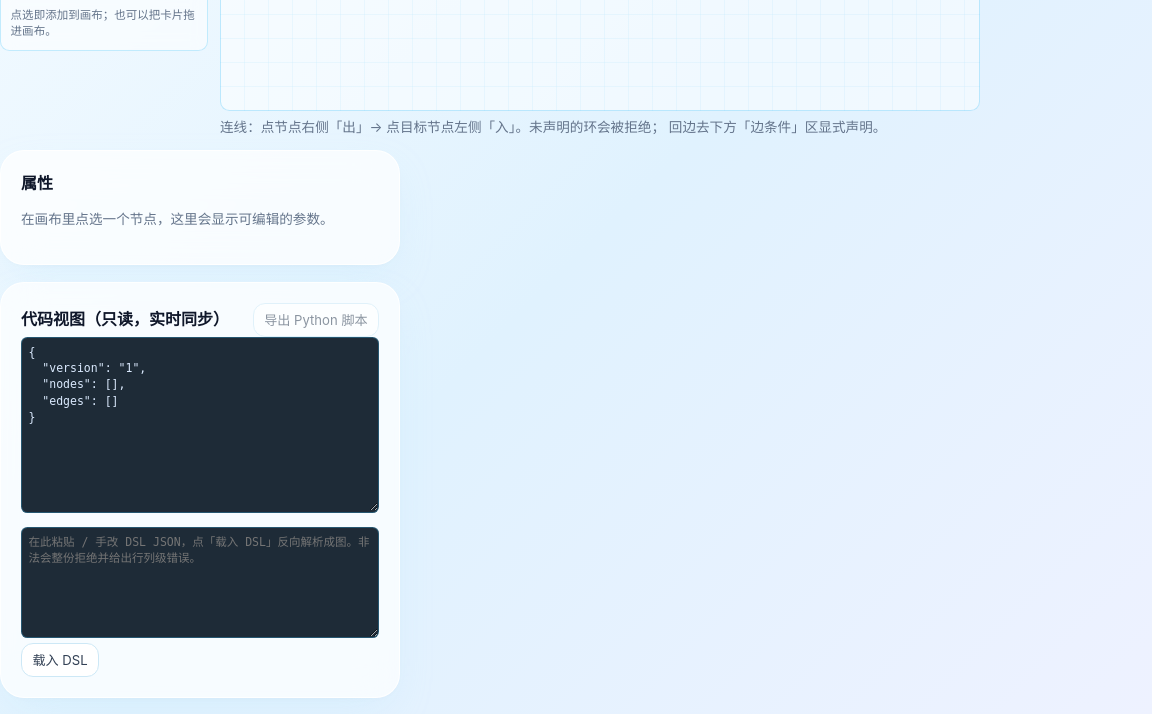
Test: FlowEditor · 载入非法 DSL 时错误条带定位信息（G4-g2） › validate-ir 也拿不到诊断时：只显示 message，不显示任何编造的位置
The width and height of the screenshot is (1152, 714).
(page scrolled)
Click the text box with test id "flow-dsl-input" at (200, 582), box [21,526,379,638]
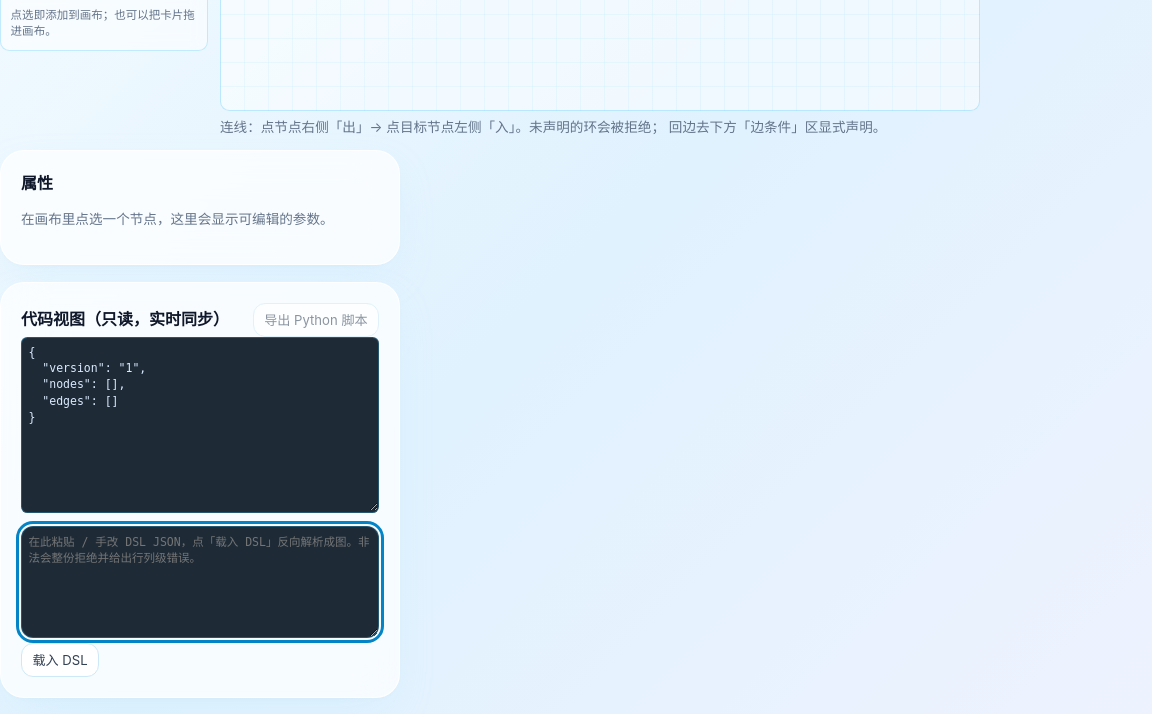
Type keys "{\"version\":\"1\",\"nodes\":[{\"id\":\"b\",\"type\":\"transform\",\"verb\":\"translate\"}],\"edges\":[]}"
(page scrolled)
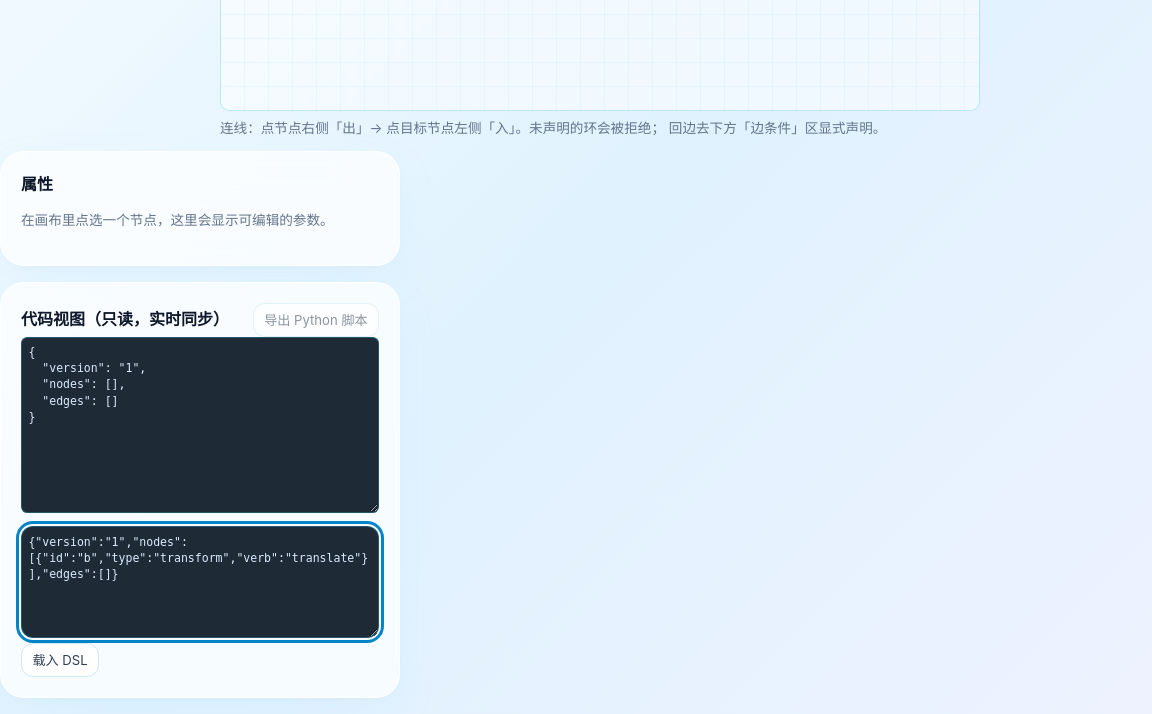
Click the button with test id "flow-load" at (60, 660), box [21,643,99,677]
(page scrolled)
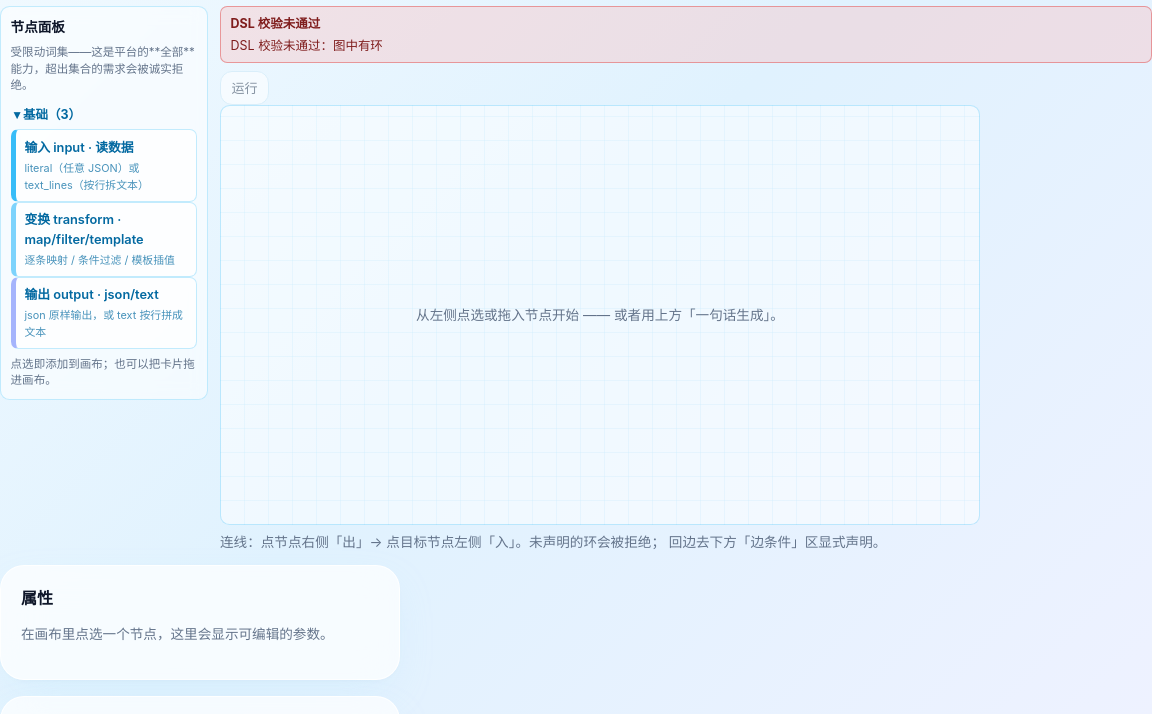
Expected: the message "DSL 校验未通过 DSL 校验未通过：图中有环" is shown, [220,6,1151,64]
Expected: the message with test id "flow-error" shows "图中有环", [231,38,383,53]
